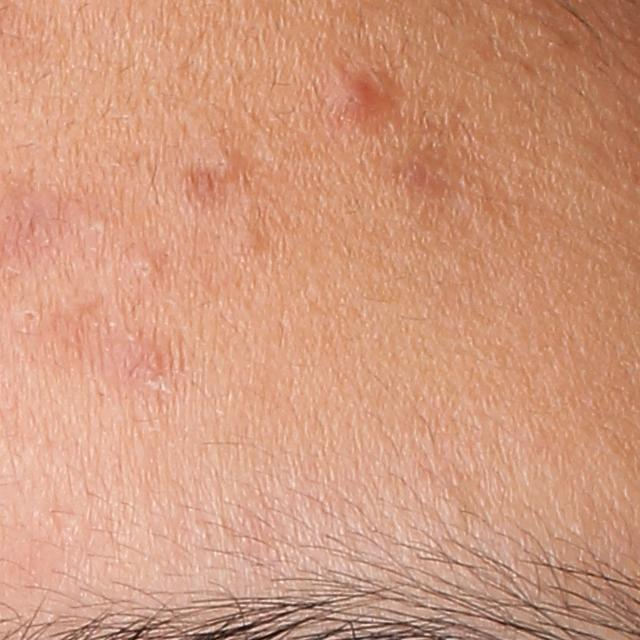comedo: (205, 142, 253, 189), (224, 220, 270, 260), (125, 250, 168, 288), (11, 300, 49, 334)
papule: (317, 66, 388, 132)
